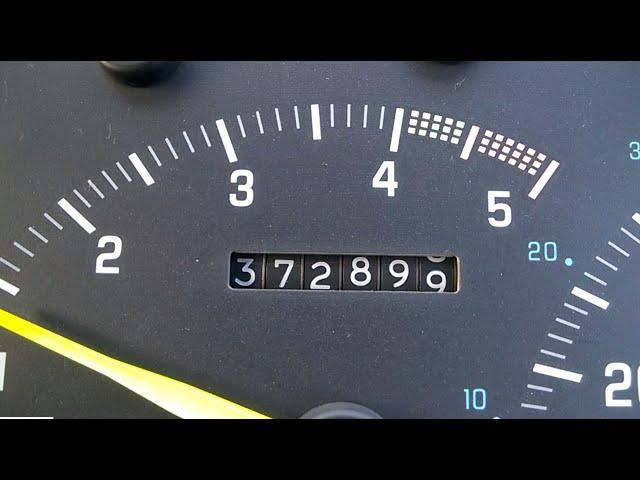2: (308, 260, 332, 291)
3: (232, 255, 256, 287)
7: (272, 257, 295, 291)
8: (349, 257, 372, 288)
9: (386, 258, 409, 288), (425, 269, 447, 294)
odometer: (227, 249, 461, 295)
